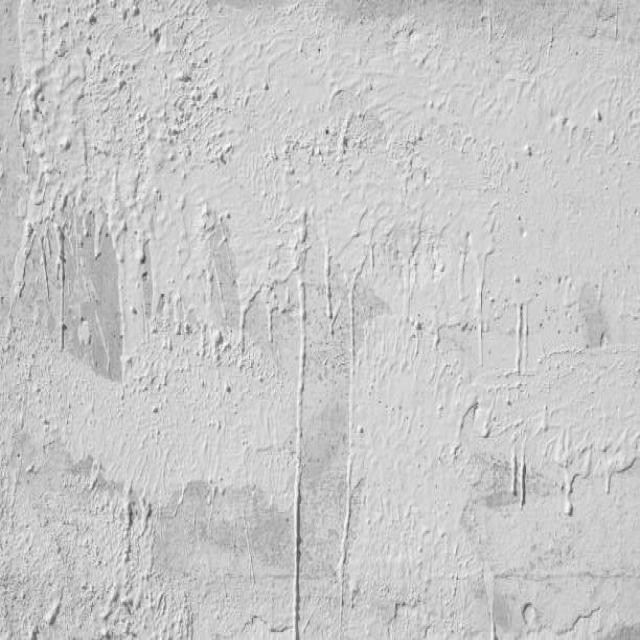paint drips: (17, 140, 260, 395), (436, 367, 640, 531), (362, 207, 541, 392), (316, 216, 363, 624), (262, 259, 312, 640)
